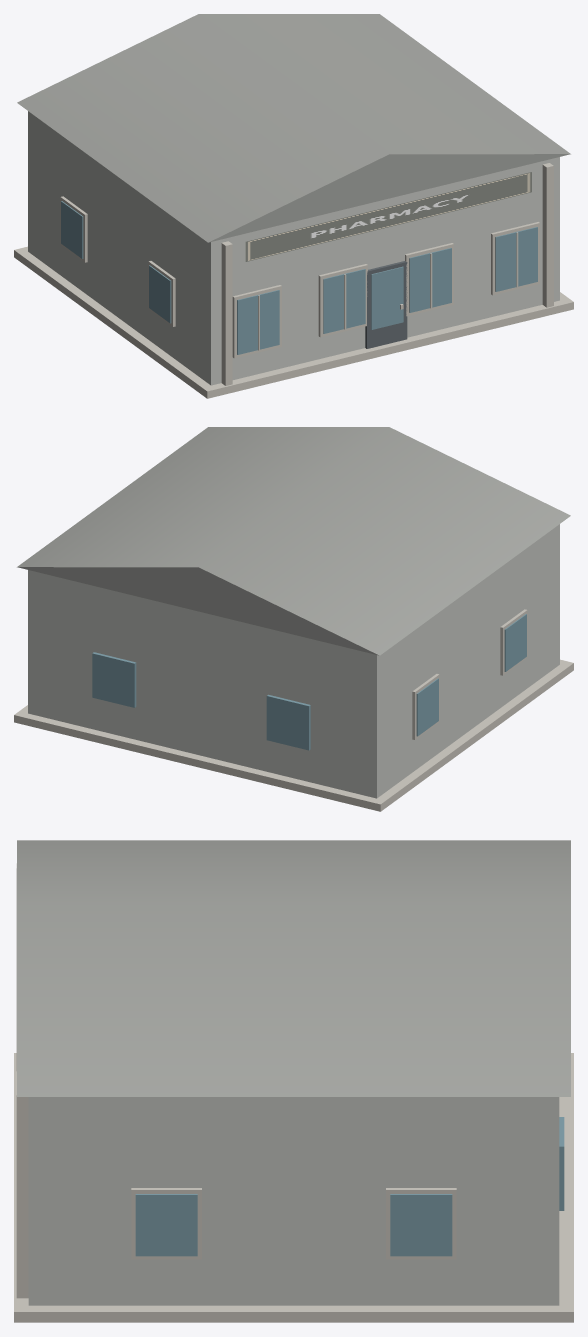
The model's file is pharmacy.glb.
3 renders of one model, top to bottom at view 1: azimuth 30°, elevation 25°; view 2: azimuth 150°, elevation 25°; view 3: azimuth 270°, elevation 25°, orthographic. The views are drawn at different scales.
Parts seen in each view (by area): view 1: world; view 2: world; view 3: world.
Part boxes in pixels (box(x1,y1,x2,y2)): world: box(14, 14, 573, 398); world: box(14, 427, 573, 811); world: box(14, 840, 573, 1322).
Bounding box in the file's own units: 10.4 × 5.4 × 9.5.
2 materials, 1 textured.
